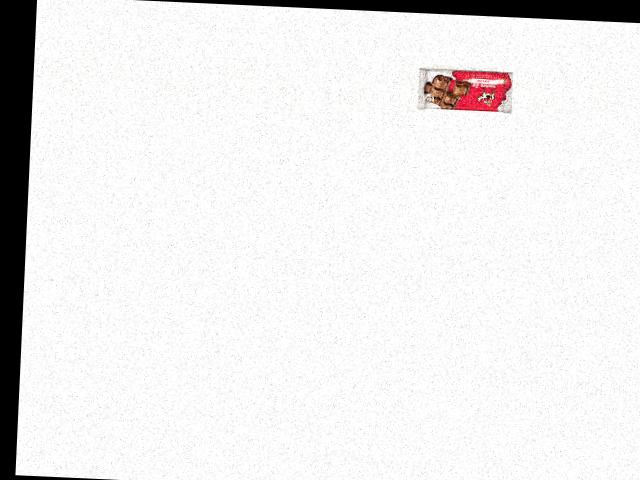chocolate: (415, 45, 529, 108)
